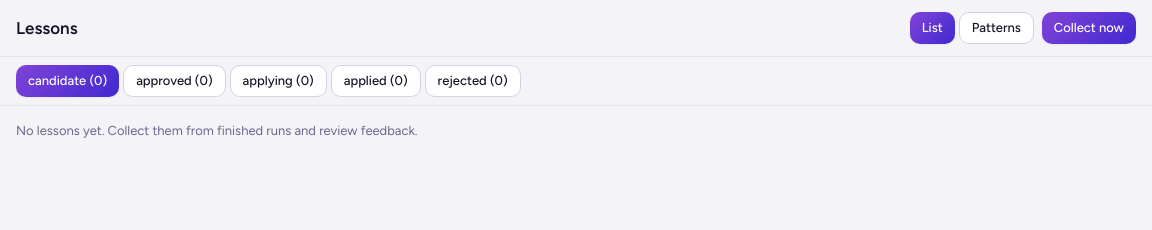
LessonsView patterns toggle › switches between the list and the patterns view
Expected: the tab "candidate (0)" is shown, [16,65,119,97]
What coordinates should you click on to do the following:
click the button "Patterns"
I would click on:
 (996, 28)
Its box is [959,12,1034,44].
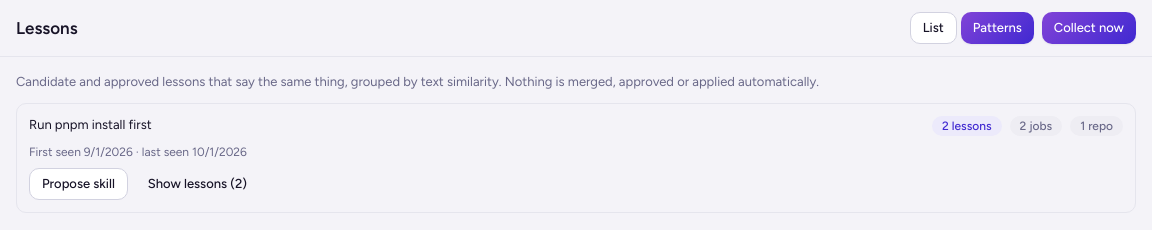
Now the text "2 lessons" is shown, box [932,116,1002,136]
Now the tab "candidate (0)" is gone
What coordinates should you click on to do the following:
click the button "List"
I would click on:
 (933, 28)
Its box is [910,12,957,44].
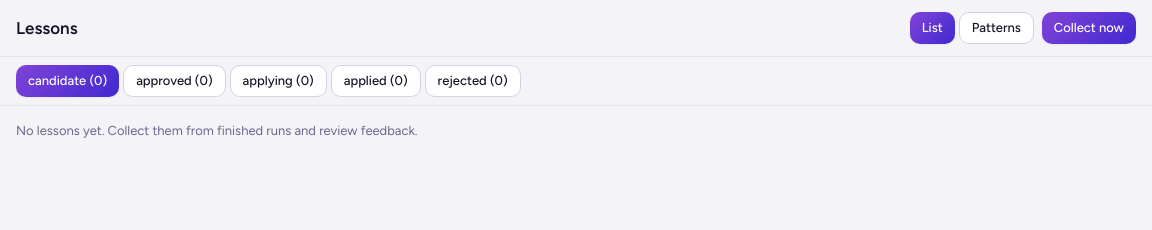
Now the tab "candidate (0)" is shown, box [16,65,119,97]
